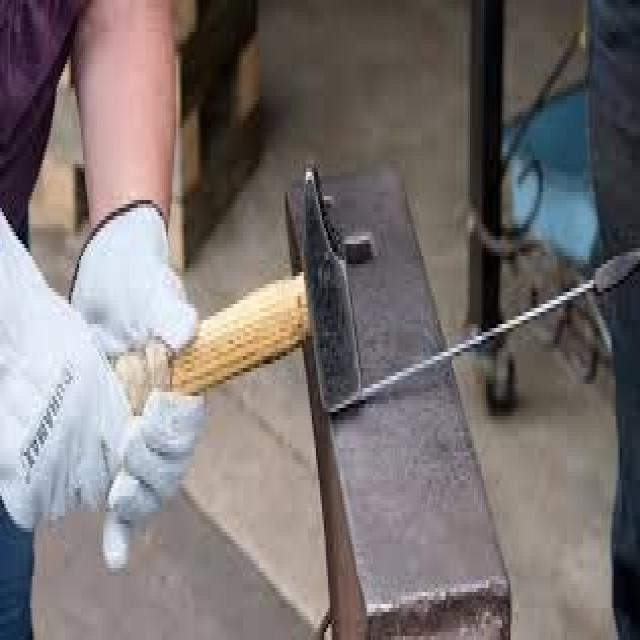hammer: (0, 148, 383, 500)
